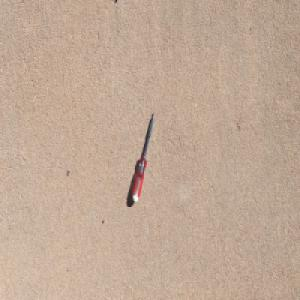Screwdriver: (131, 110, 155, 203)
